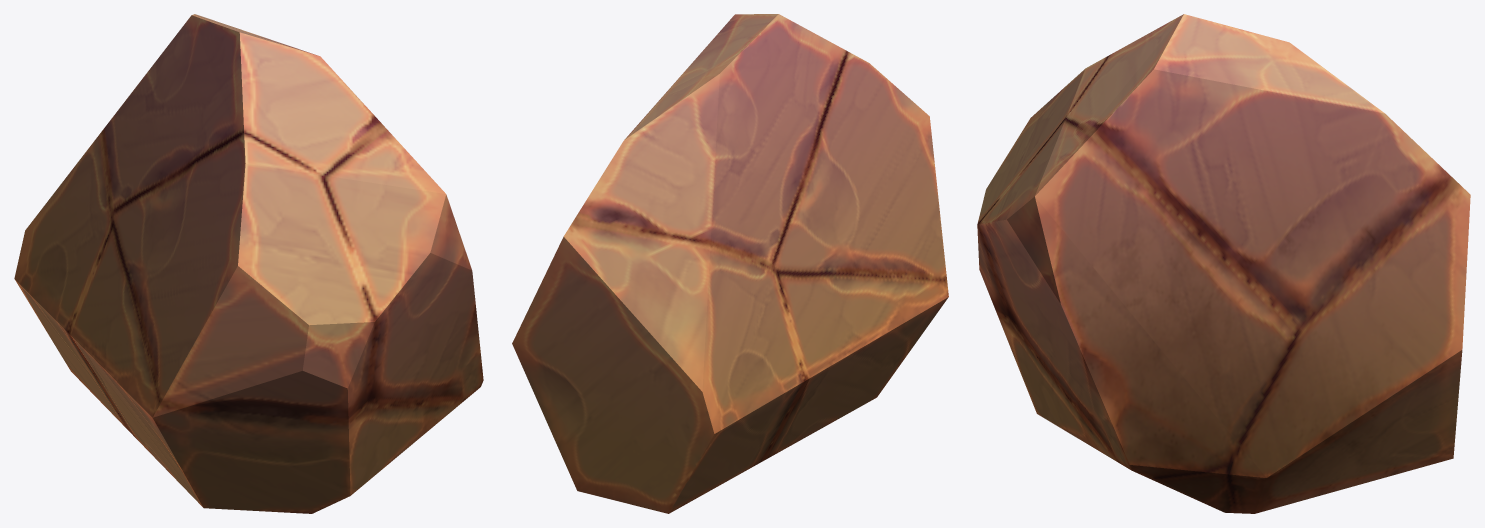
The model's file is rocks_1.fbx.
3 renders of one model, left to right at view 1: azimuth 30°, elevation 25°; view 2: azimuth 150°, elevation 25°; view 3: azimuth 270°, elevation 25°, orthographic. The views are drawn at different scales.
Visible parts, largest first — view 1: Cube.003_cell.026; view 2: Cube.003_cell.026; view 3: Cube.003_cell.026.
Boxes of the visible parts, x1,y1,x2,y2 form: Cube.003_cell.026: (14, 14, 483, 513); Cube.003_cell.026: (512, 14, 948, 513); Cube.003_cell.026: (977, 14, 1470, 513).
Bounding box in the file's own units: 152 × 181 × 198.
